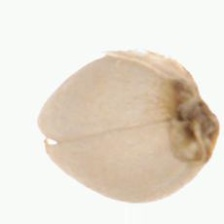L1: (172, 79, 220, 162), (36, 109, 60, 160)
L2: (37, 50, 219, 203)
